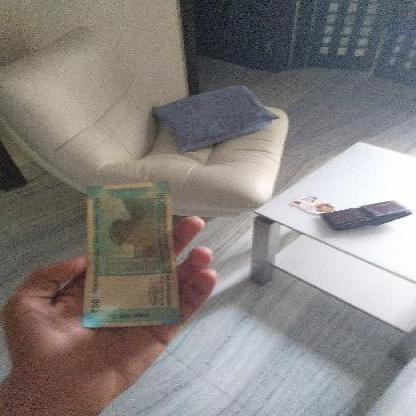New50Back: (85, 184, 174, 328)
